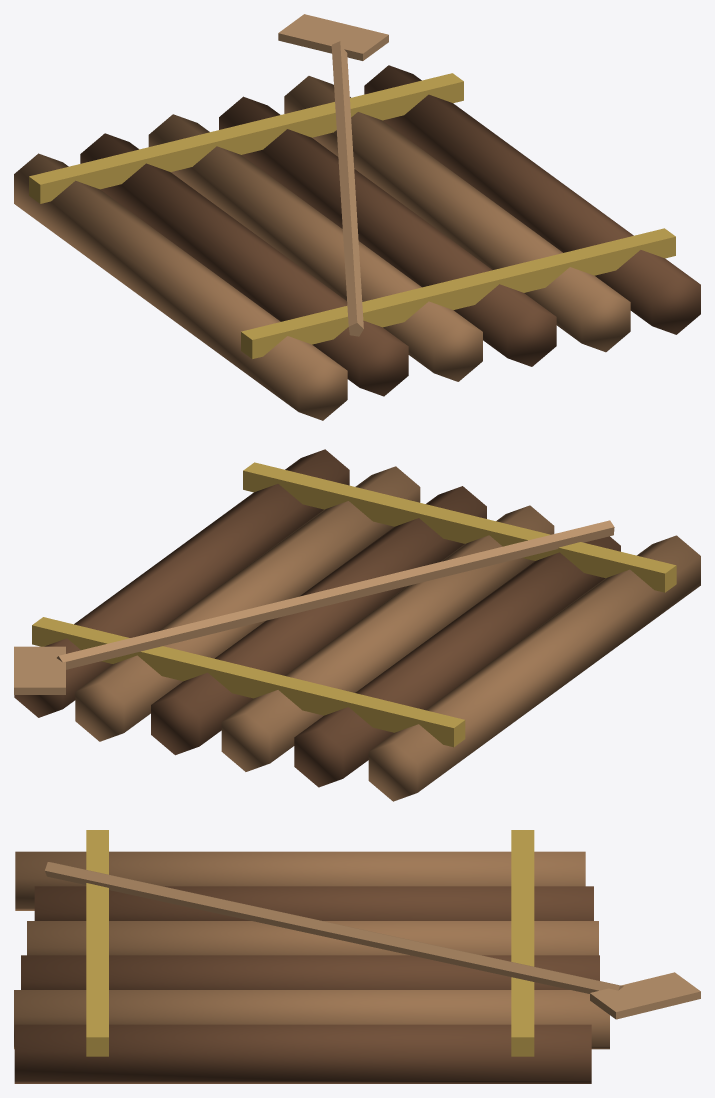
The model's file is raft.glb.
The picture shows the model from 3 angles, top to bottom: view 1: azimuth 30°, elevation 25°; view 2: azimuth 150°, elevation 25°; view 3: azimuth 270°, elevation 25°; orthographic projection.
Visible parts, largest first — view 1: LOD0; view 2: LOD0; view 3: LOD0.
Part boxes in pixels (x1,y1,x2,y2): LOD0: (14, 14, 700, 420); LOD0: (14, 449, 700, 801); LOD0: (14, 830, 700, 1083).
Size of the model in its own units: 3 by 0.5493 by 4.2.
1 material, 1 textured.
